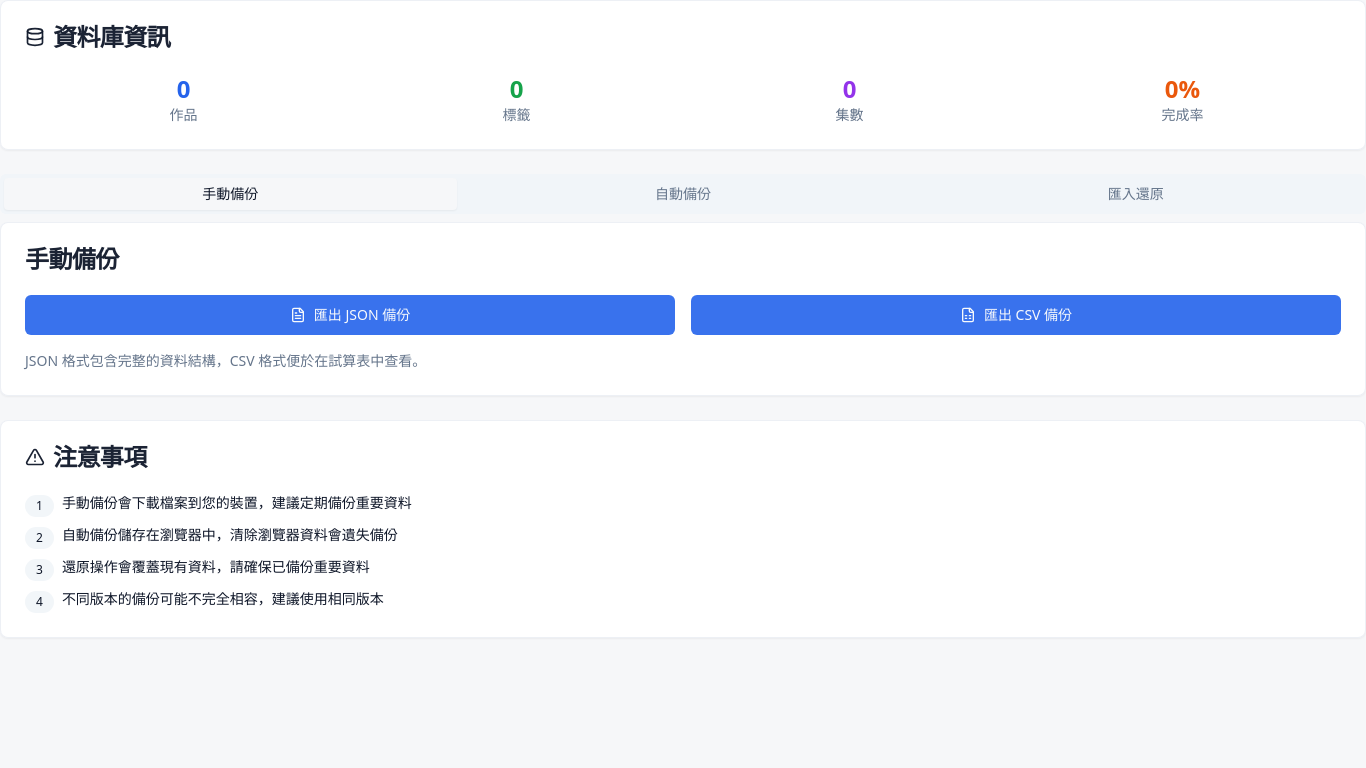
Scenario: BackupRestore component › shows auto backup empty state by default
Click the tab "自動備份" at [683, 194], box x1=457 y1=178 x2=909 y2=210
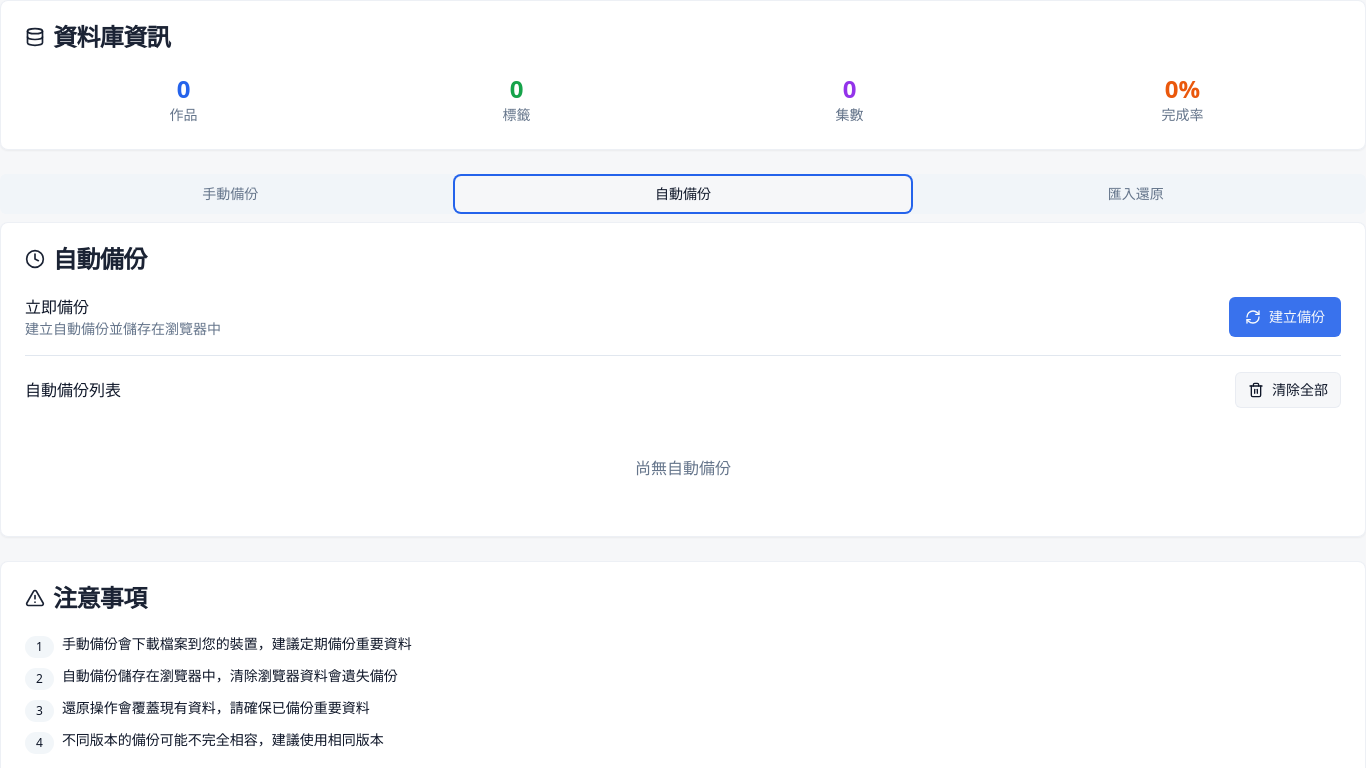
Expected: the text "尚無自動備份" is shown, x1=635 y1=457 x2=731 y2=479
